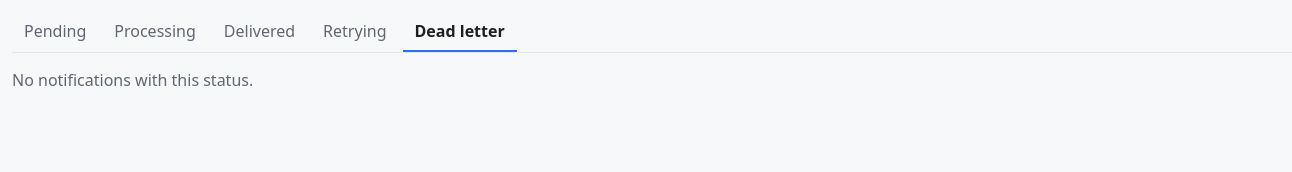
Test: NotificationsPage › switches status through the tabs
The image size is (1292, 172).
Click the tab "Delivered".
click(259, 32)  # box [212,12,307,52]
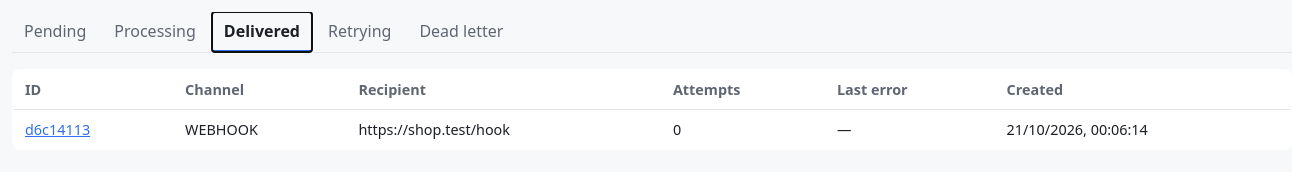
Check: the text "https://shop.test/hook" is shown, box [346,110,661,150]
